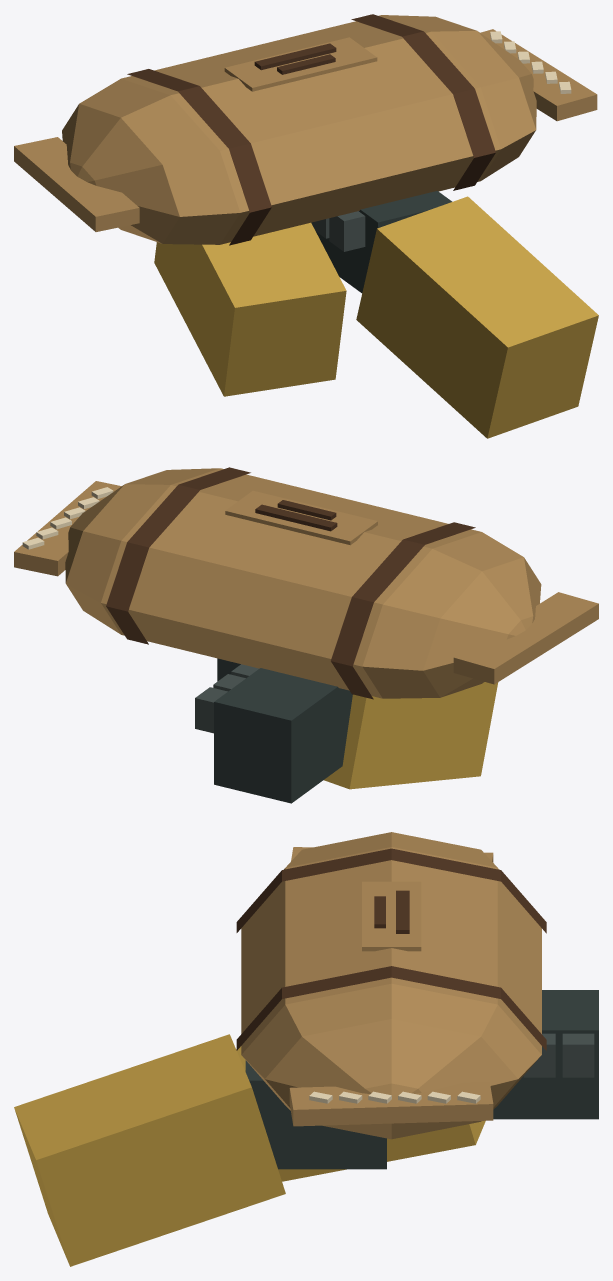
Rendered from sandbag.glb.
3 renders of one model, top to bottom at view 1: azimuth 30°, elevation 25°; view 2: azimuth 150°, elevation 25°; view 3: azimuth 270°, elevation 25°, orthographic. The views are drawn at different scales.
Parts seen in each view (by area): view 1: _MeshInstance3D_4084, _MeshInstance3D_4106, _MeshInstance3D_4100, _MeshInstance3D_4086, _MeshInstance3D_4085, _MeshInstance3D_4087, _MeshInstance3D_4105, _MeshInstance3D_4095, _MeshInstance3D_4088, _MeshInstance3D_4109, _MeshInstance3D_4096; view 2: _MeshInstance3D_4084, _MeshInstance3D_4099, _MeshInstance3D_4100, _MeshInstance3D_4086, _MeshInstance3D_4087, _MeshInstance3D_4085, _MeshInstance3D_4095, _MeshInstance3D_4088, _MeshInstance3D_4101, _MeshInstance3D_4096, _MeshInstance3D_4097; view 3: _MeshInstance3D_4084, _MeshInstance3D_4106, _MeshInstance3D_4099, _MeshInstance3D_4105, _MeshInstance3D_4088, _MeshInstance3D_4085, _MeshInstance3D_4087, _MeshInstance3D_4095, _MeshInstance3D_4100, _MeshInstance3D_4101, _MeshInstance3D_4102, _MeshInstance3D_4096.
Part boxes in pixels (x1,y1,x2,y2): _MeshInstance3D_4084: (62, 15, 536, 244); _MeshInstance3D_4106: (356, 196, 598, 438); _MeshInstance3D_4100: (154, 222, 346, 396); _MeshInstance3D_4086: (14, 137, 139, 231); _MeshInstance3D_4085: (127, 69, 271, 245); _MeshInstance3D_4087: (351, 14, 495, 190); _MeshInstance3D_4105: (316, 191, 452, 293); _MeshInstance3D_4095: (224, 37, 377, 91); _MeshInstance3D_4088: (480, 29, 597, 121); _MeshInstance3D_4109: (329, 211, 365, 251); _MeshInstance3D_4096: (254, 43, 336, 70); _MeshInstance3D_4084: (65, 468, 541, 698); _MeshInstance3D_4099: (214, 668, 352, 803); _MeshInstance3D_4100: (324, 682, 498, 789); _MeshInstance3D_4086: (453, 592, 598, 684); _MeshInstance3D_4087: (106, 467, 250, 644); _MeshInstance3D_4085: (331, 522, 475, 699); _MeshInstance3D_4095: (225, 490, 377, 545); _MeshInstance3D_4088: (14, 481, 121, 576); _MeshInstance3D_4101: (195, 687, 227, 733); _MeshInstance3D_4096: (255, 504, 337, 531); _MeshInstance3D_4097: (277, 500, 336, 520); _MeshInstance3D_4084: (241, 832, 541, 1139); _MeshInstance3D_4106: (14, 1034, 285, 1266); _MeshInstance3D_4099: (493, 990, 598, 1119); _MeshInstance3D_4105: (245, 1060, 386, 1169); _MeshInstance3D_4088: (289, 1082, 493, 1126); _MeshInstance3D_4085: (236, 848, 546, 933); _MeshInstance3D_4087: (236, 966, 546, 1050); _MeshInstance3D_4095: (362, 881, 421, 951); _MeshInstance3D_4100: (236, 1046, 485, 1181); _MeshInstance3D_4101: (562, 1033, 594, 1077); _MeshInstance3D_4102: (523, 1033, 555, 1077); _MeshInstance3D_4096: (396, 890, 409, 933).
Size of the model in its own units: 0.2731 by 0.1402 by 0.2567.
